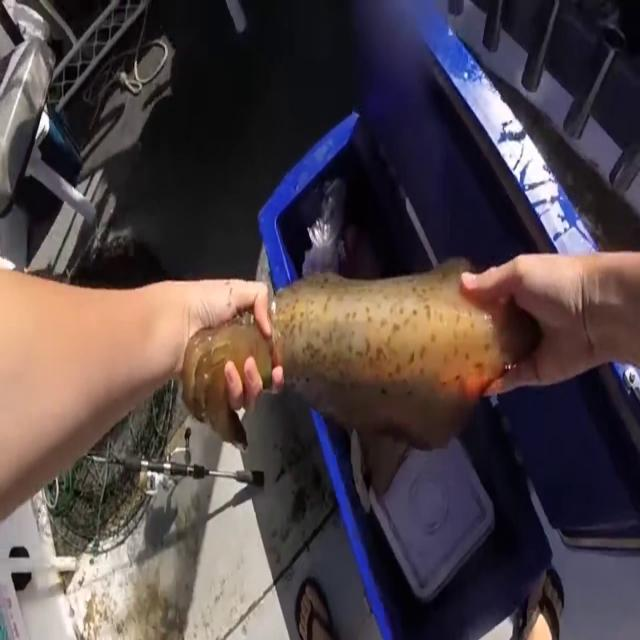squid: (179, 256, 543, 502)
